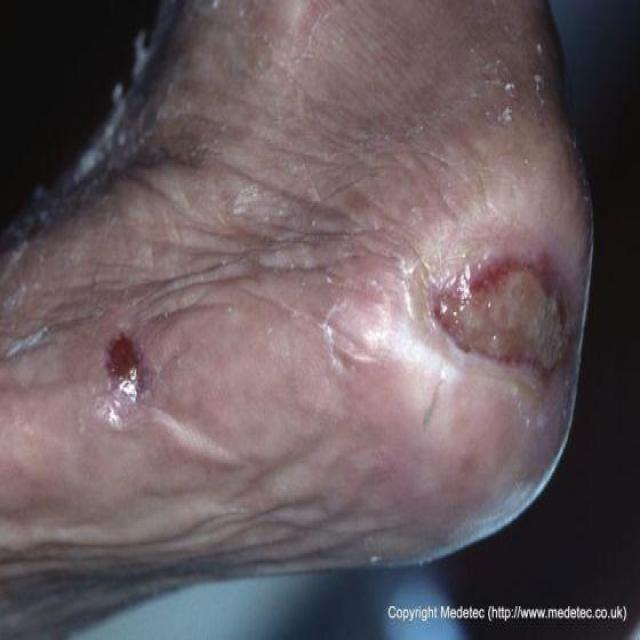Unstageable: (433, 252, 576, 388)
stage-2: (105, 323, 139, 383)
